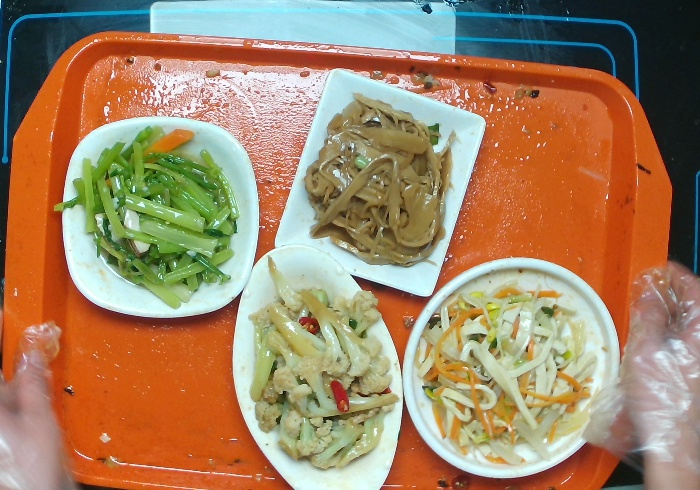HZYJPL-Si_Fang_Die: (269, 63, 493, 303)
HZYJPL-Si_Fang_Yuan_Die: (51, 110, 266, 325)
HZYJPL-Xiao_Yu_Die: (227, 241, 405, 489)
HZYJPL-Xiao_Yuan_Die: (401, 251, 624, 485)
